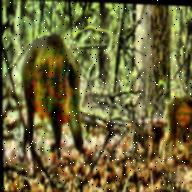boar: (16, 15, 89, 172)
